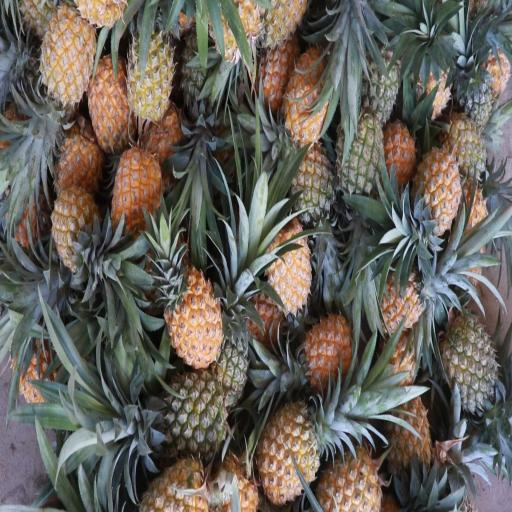------------------------------: (282, 131, 337, 236)
Pineapple - v8 v1: (246, 388, 325, 510), (98, 128, 159, 250), (377, 380, 435, 504), (289, 295, 359, 392), (156, 245, 218, 349), (30, 2, 88, 108), (356, 231, 419, 327), (250, 208, 308, 310), (118, 16, 173, 123), (46, 115, 106, 212), (406, 139, 463, 241), (275, 48, 328, 154), (80, 48, 134, 152), (306, 439, 382, 512), (437, 109, 496, 202), (44, 175, 94, 276), (117, 459, 208, 512), (251, 21, 304, 109)
